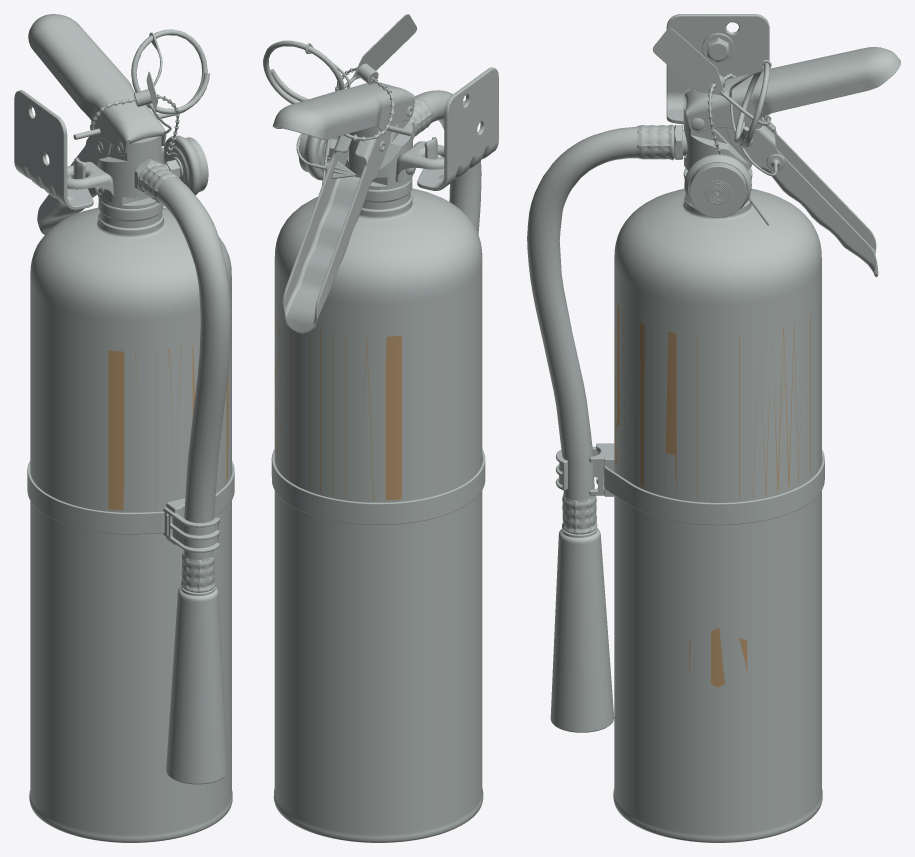
The model's file is fireProtection_extinguisher_portable_a01.glb.
3 views of the same model, side by side, from view 1: azimuth 30°, elevation 25°; view 2: azimuth 150°, elevation 25°; view 3: azimuth 270°, elevation 25° (orthographic). The views are drawn at different scales.
Size of the model in its own units: 0.1086 by 0.4173 by 0.184.
